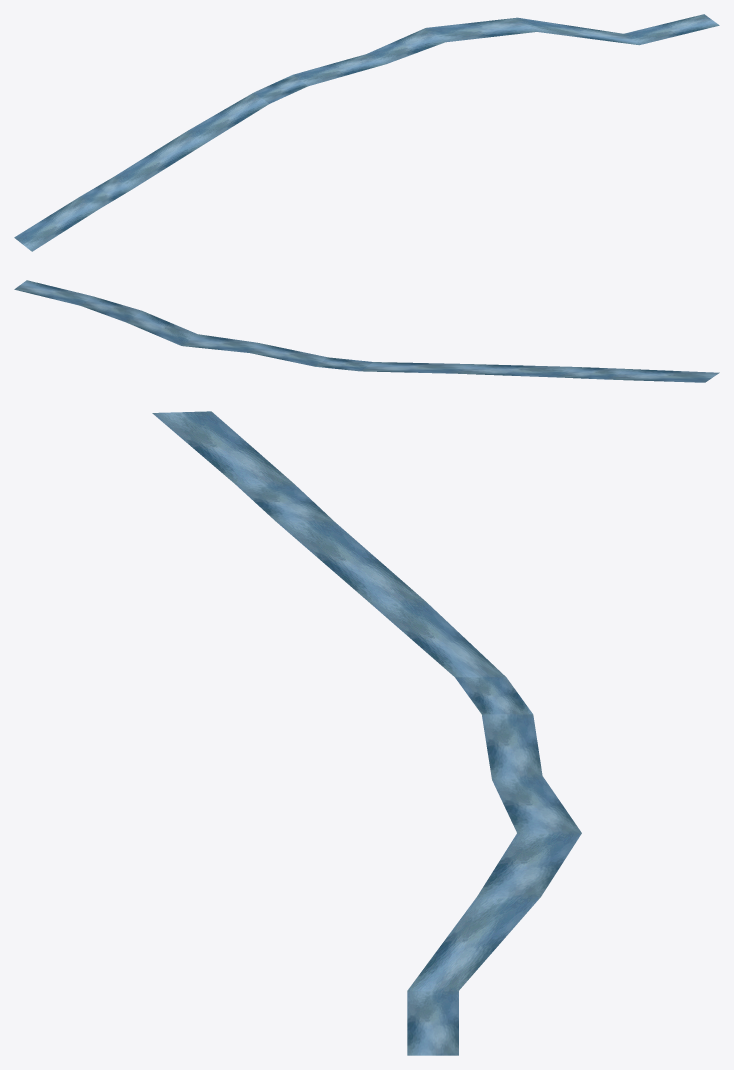
File: ncwater.glb
3 views of the same model, one above another, from view 1: azimuth 30°, elevation 25°; view 2: azimuth 150°, elevation 25°; view 3: azimuth 270°, elevation 25° (orthographic). The views are drawn at different scales.
Visible parts, largest first — view 1: ncwater; view 2: ncwater; view 3: ncwater.
Boxes of the visible parts, x1,y1,x2,y2 form: ncwater: (14,14,719,251); ncwater: (14,280,719,382); ncwater: (152,411,581,1055).
Bounding box in the file's own units: 16126 × 381 × 4772.
1 material, 1 textured.
